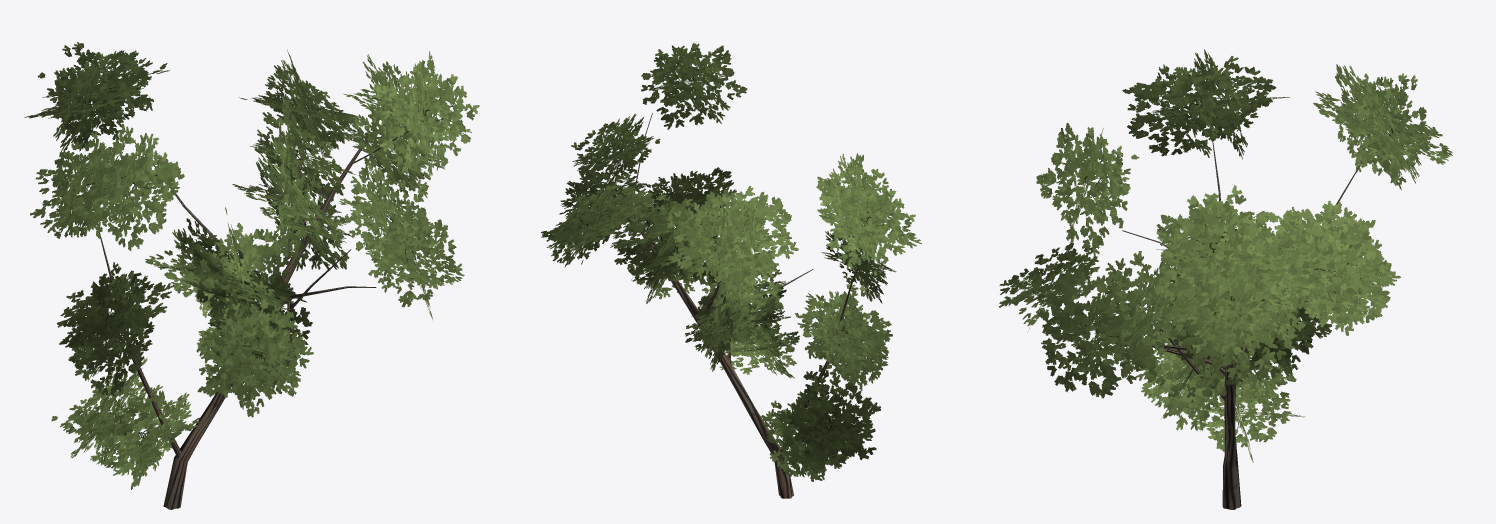
Rendered from sapling-c.lod0.glb.
3 renders of one model, left to right at view 1: azimuth 30°, elevation 25°; view 2: azimuth 150°, elevation 25°; view 3: azimuth 270°, elevation 25°, orthographic. The views are drawn at different scales.
Visible parts, largest first — view 1: foliage, bark; view 2: foliage, bark; view 3: foliage, bark.
Boxes of the visible parts, box(x1,y1,x2,y2) form: foliage: box(24, 42, 479, 489); bark: box(99, 127, 409, 509); foliage: box(541, 43, 921, 481); bark: box(613, 113, 863, 498); foliage: box(999, 49, 1452, 462); bark: box(1085, 141, 1361, 509).
Bounding box in the file's own units: 1.3 × 1.3 × 1.18.
3 materials, 2 textured.
